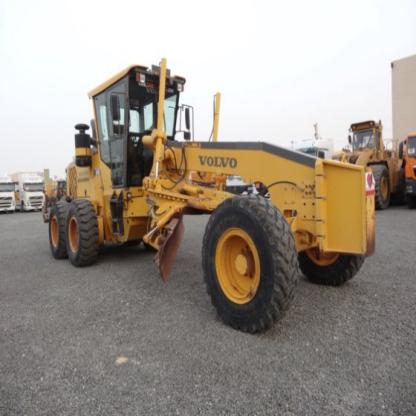bull_dozer/loader/grader: (36, 57, 385, 330)
